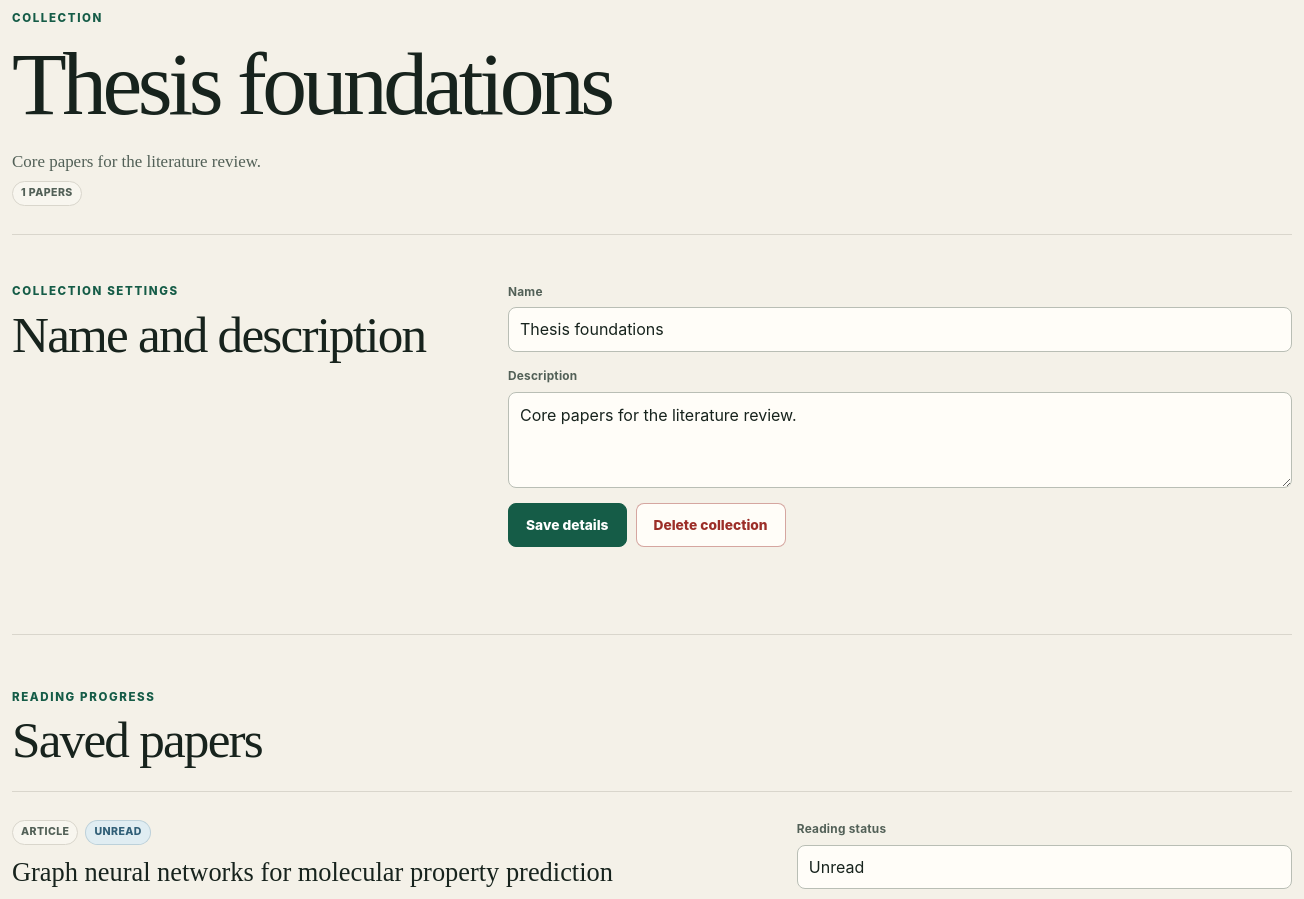
Test: CollectionManager › leaves the deletion fence in place after a non-success server response
Click the button "Delete collection".
click(711, 525)  # box [636,503,786,547]
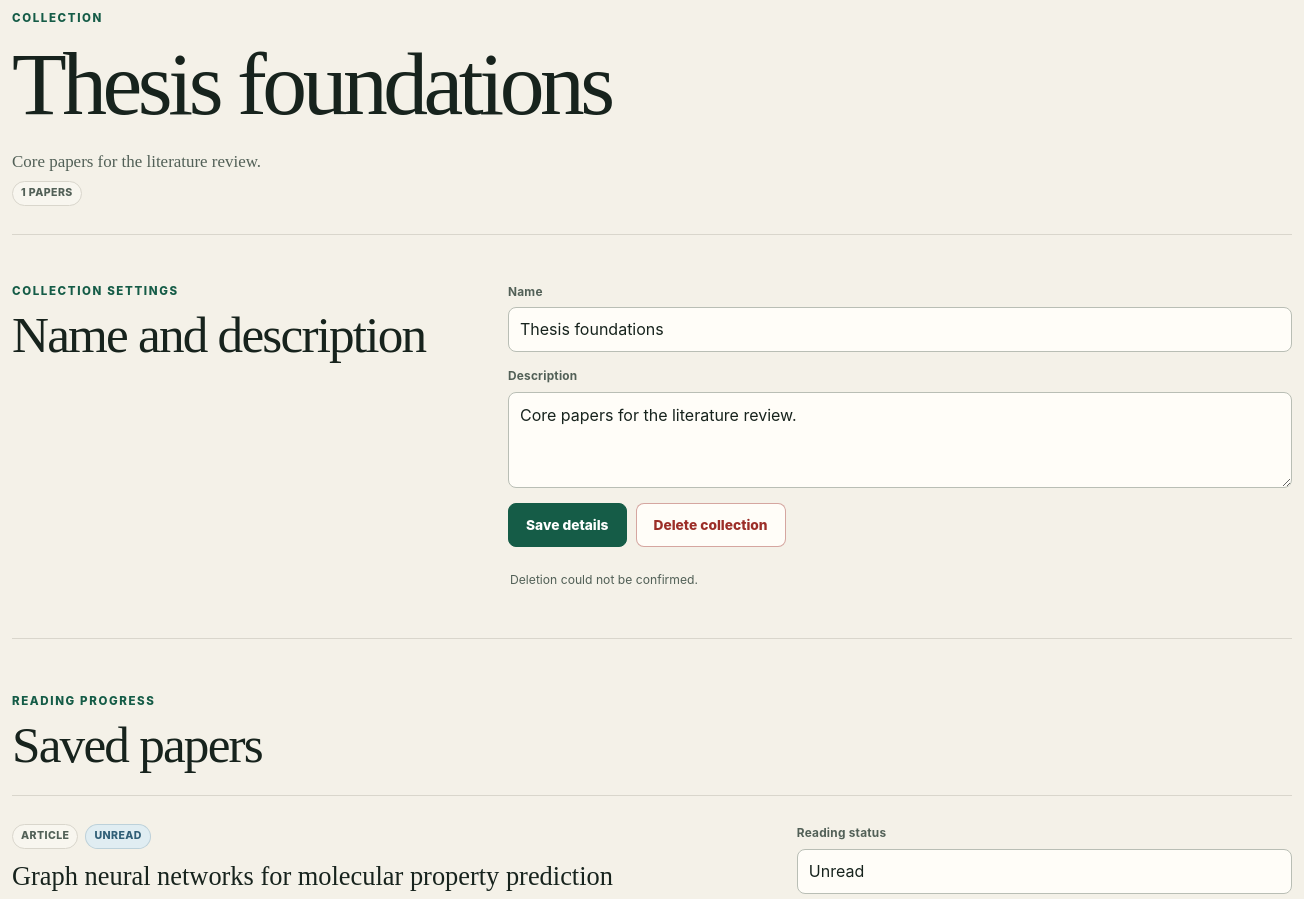
Expected: the text "Deletion could not be confirmed." is shown, [510,572,698,587]
